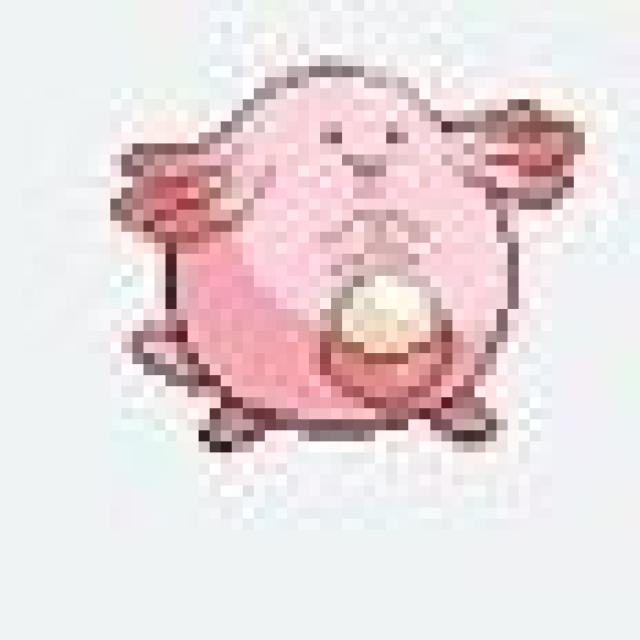Chansey: (113, 61, 575, 452)
